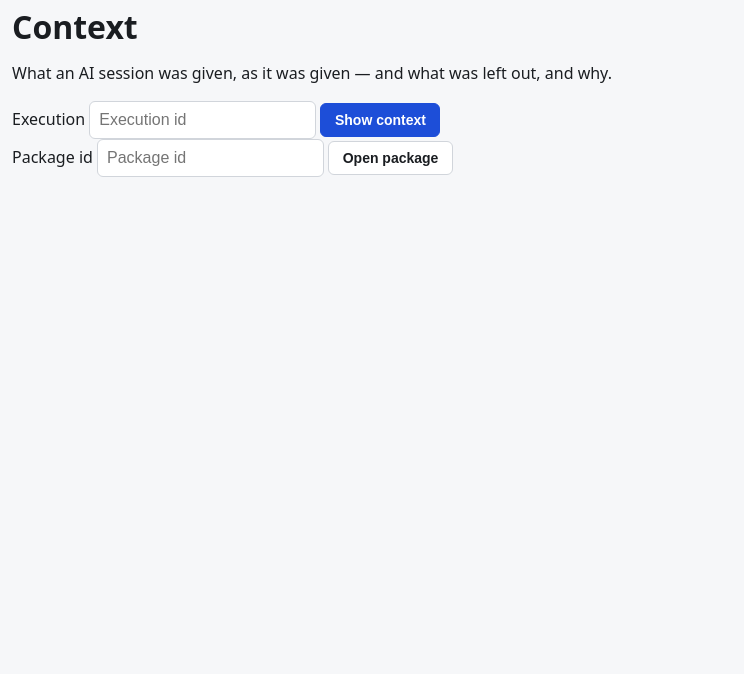
T1268 · the Context screen › shows a refused package with its reason (FR-CTX-065)
The width and height of the screenshot is (744, 674).
Type "ex_1" into the field labelled "Execution". click: (203, 120)
box: [89,101,316,139]
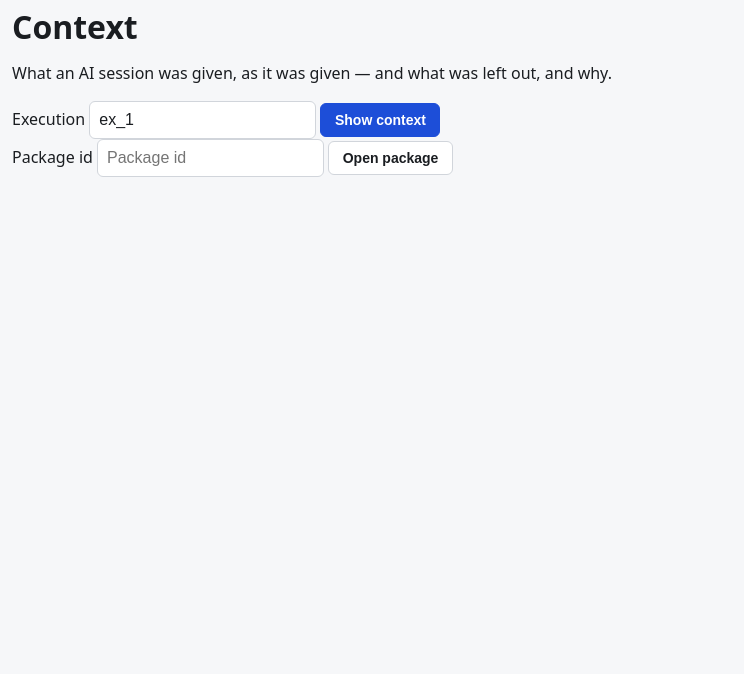
Click the button "Show context". click: (380, 120)
box: [320,103,440,137]
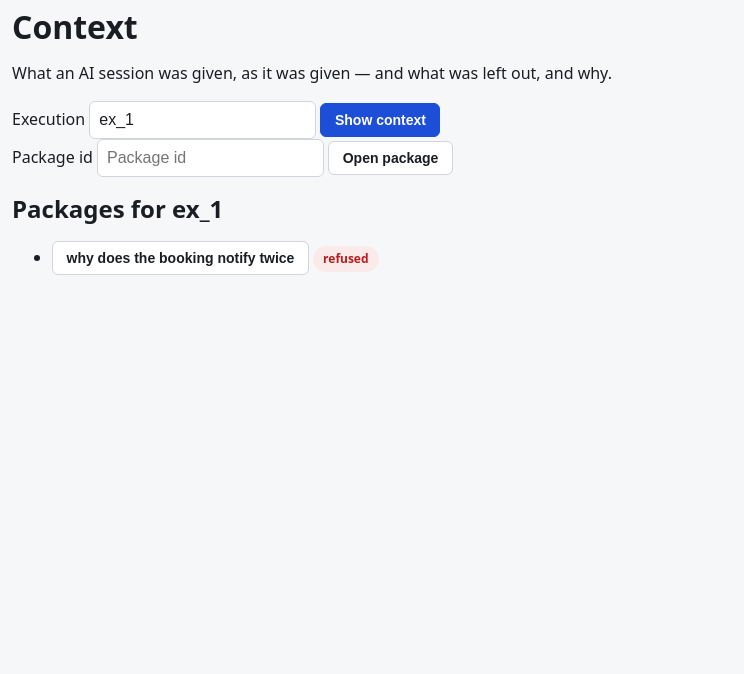
Now the heading "Packages for ex_1" is shown, box [12,192,223,225]
Click the button "why does the booking notify twice". click: (180, 258)
box: [52,241,309,275]
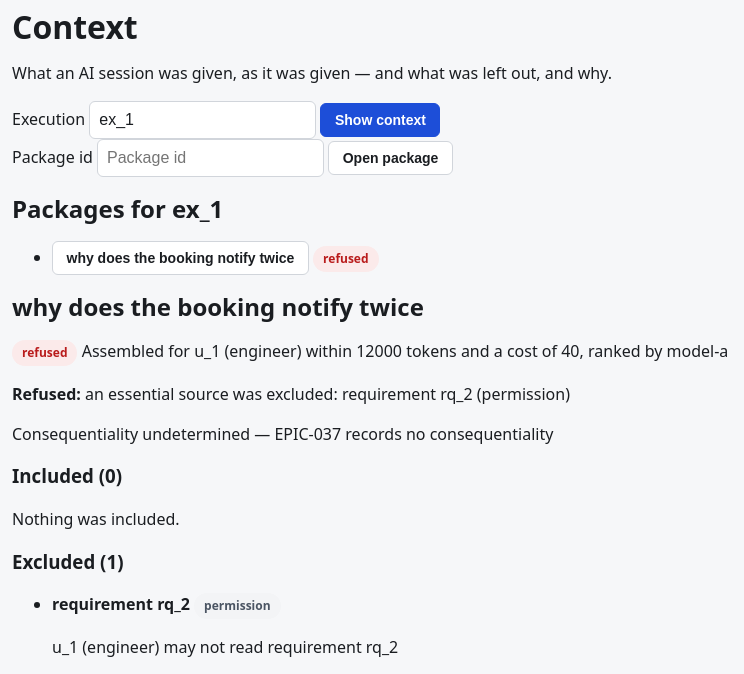
Now the text "an essential source was excluded" is shown, box [85,382,570,404]
